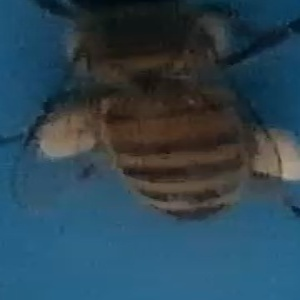bee: (28, 1, 288, 223)
